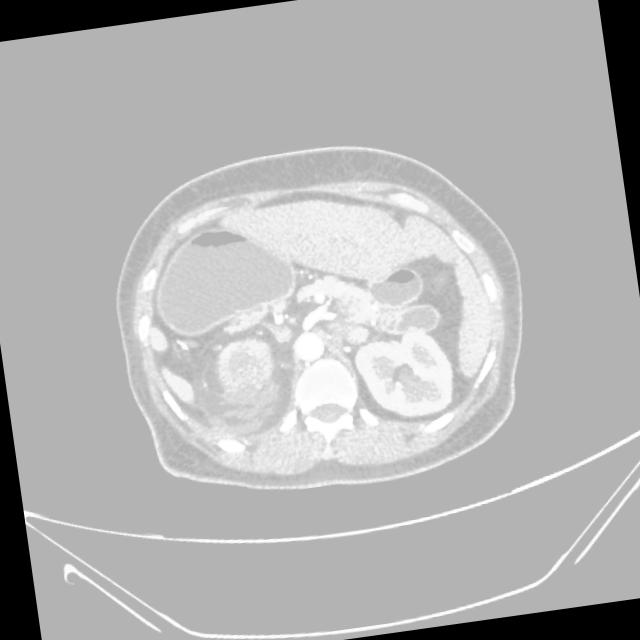TUMOR: (81, 165, 548, 419)
